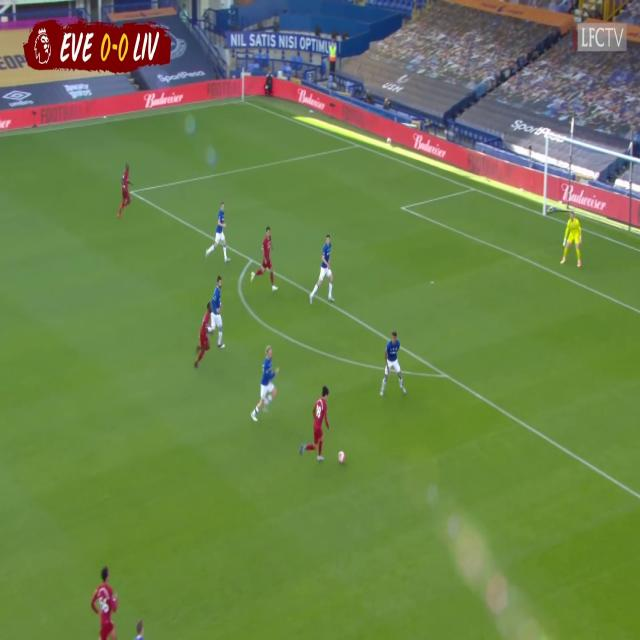Ball: (337, 444, 350, 470)
GoalKeeper: (558, 208, 586, 272)
TEAM 1: (301, 379, 333, 470), (89, 550, 121, 640), (250, 217, 278, 295), (190, 293, 213, 373), (115, 152, 135, 223)
TEAM 2: (247, 338, 280, 425), (378, 325, 410, 407), (308, 225, 337, 307), (204, 201, 232, 267), (210, 273, 227, 352)
